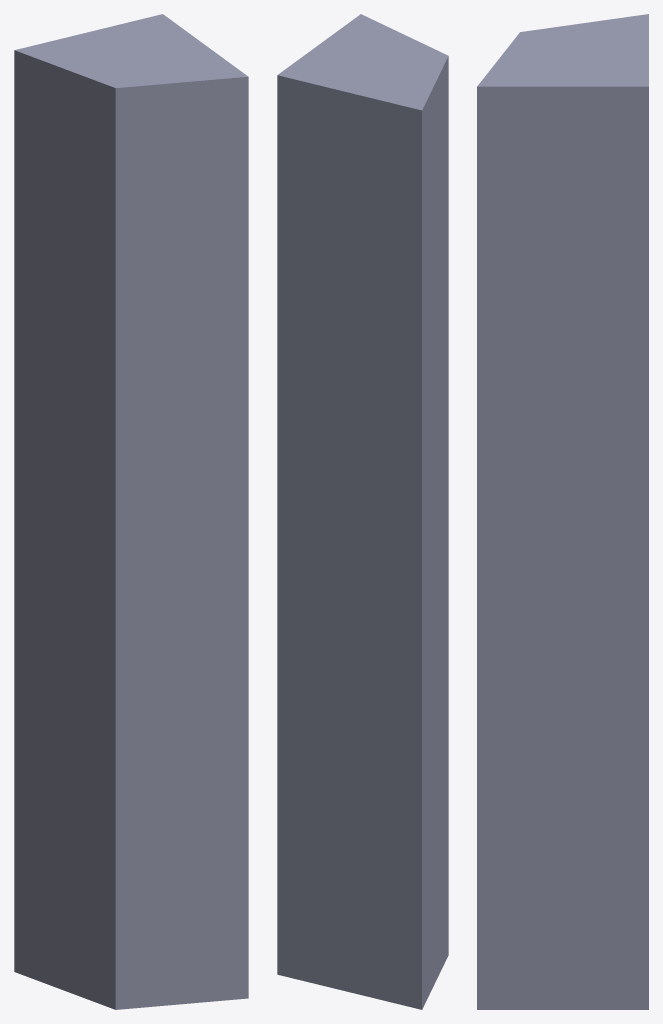
File: kenney_nature-kit__cliff_corner_rock.fbx
3 views of the same model, side by side, from view 1: azimuth 30°, elevation 25°; view 2: azimuth 150°, elevation 25°; view 3: azimuth 270°, elevation 25° (orthographic). The views are drawn at different scales.
Visible parts, largest first — view 1: kenney_nature-kit__cliff_corner_rock__cave_stone; view 2: kenney_nature-kit__cliff_corner_rock__cave_stone; view 3: kenney_nature-kit__cliff_corner_rock__cave_stone.
Boxes of the visible parts, x1,y1,x2,y2 form: kenney_nature-kit__cliff_corner_rock__cave_stone: (14, 14, 248, 1009); kenney_nature-kit__cliff_corner_rock__cave_stone: (277, 14, 448, 1009); kenney_nature-kit__cliff_corner_rock__cave_stone: (477, 14, 648, 1009).
Bounding box in the file's own units: 0.6018 × 3.57 × 0.6018.
